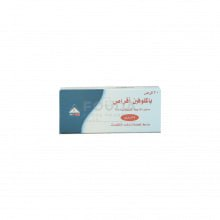Medicine: (56, 84, 165, 136)
